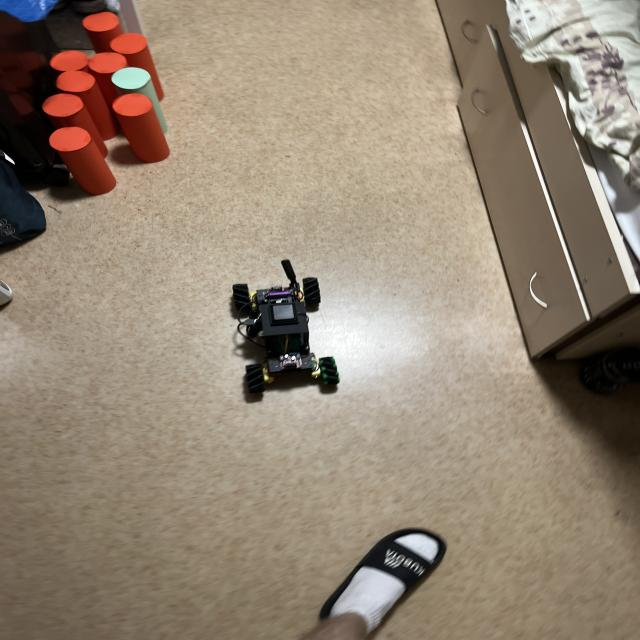robot: (230, 259, 339, 394)
